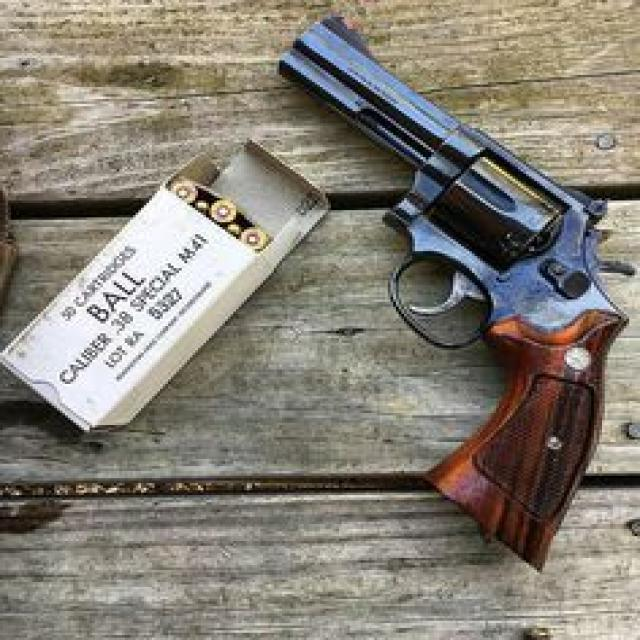revolver: (256, 0, 640, 593)
